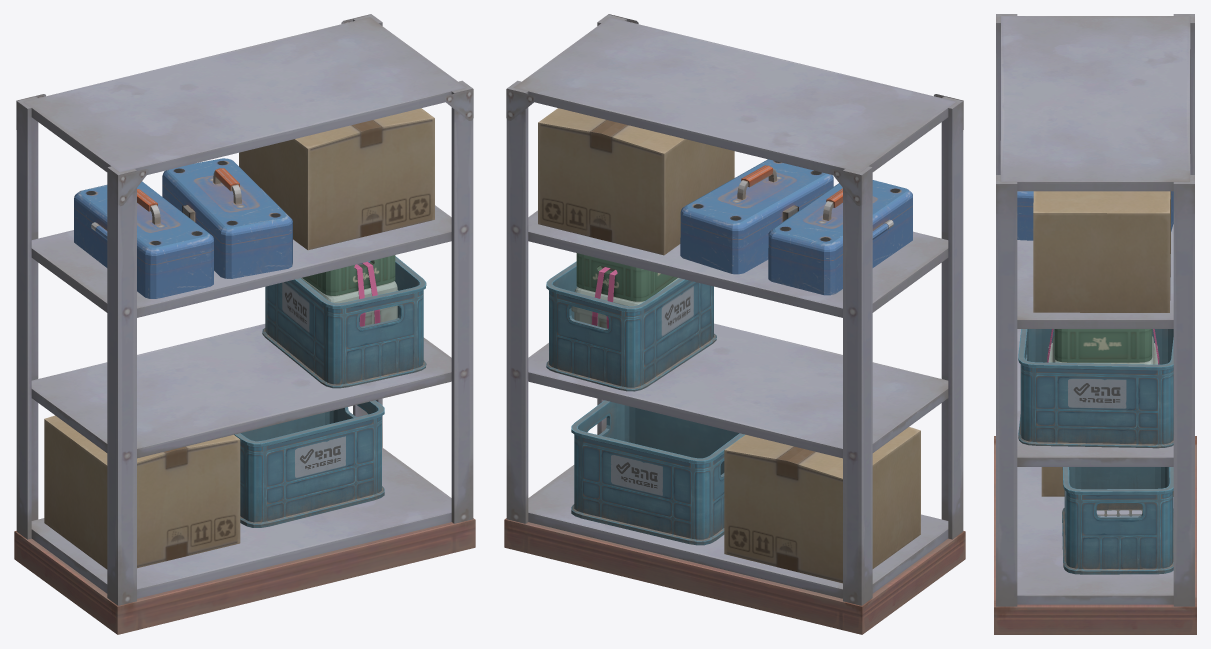
Rendered from WarehouseManager_22.obj.
3 views of the same model, side by side, from view 1: azimuth 30°, elevation 25°; view 2: azimuth 150°, elevation 25°; view 3: azimuth 270°, elevation 25° (orthographic).
Size of the model in its own units: 2 by 2.45 by 1.
Materials: 8 (8 with a texture image).
